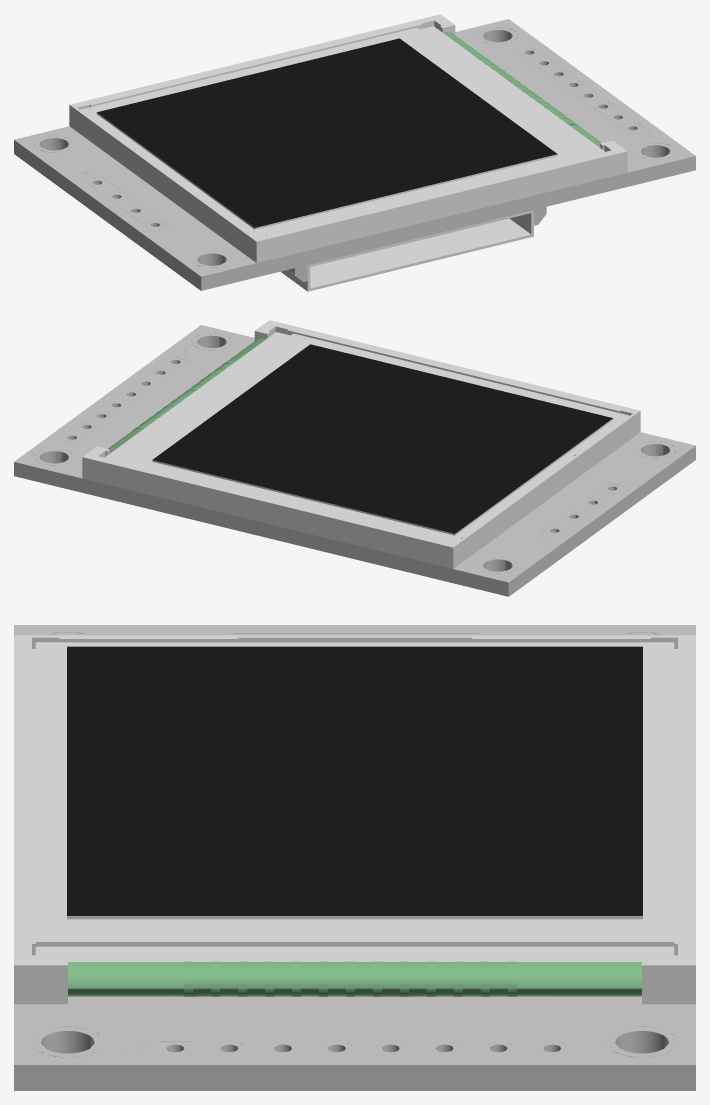
3 views of the same model, one above another, from view 1: azimuth 30°, elevation 25°; view 2: azimuth 150°, elevation 25°; view 3: azimuth 270°, elevation 25° (orthographic). The views are drawn at different scales.
Visible parts, largest first — view 1: ST7735; view 2: ST7735; view 3: ST7735.
Part boxes in pixels (<box>): ST7735: <box>14,14,695,291</box>; ST7735: <box>14,320,695,596</box>; ST7735: <box>14,625,695,1090</box>.
Size of the model in its own units: 5.8 by 0.7 by 3.8.
